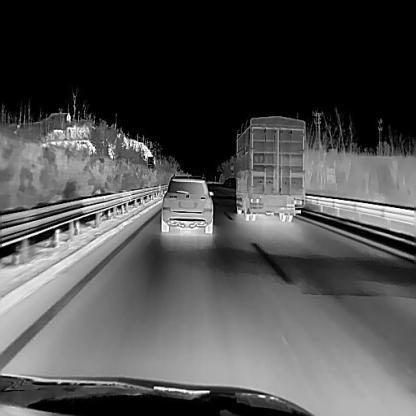car: (160, 172, 212, 232)
truck: (229, 114, 305, 223)
